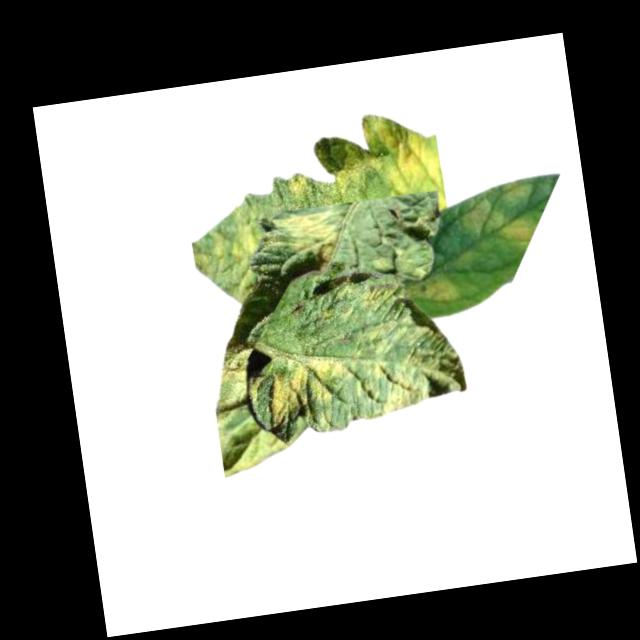Leaf_Mold: (328, 102, 445, 204), (185, 202, 267, 310), (262, 347, 356, 439), (456, 188, 546, 251), (273, 207, 344, 275), (367, 352, 436, 417), (213, 336, 262, 388), (404, 268, 460, 310), (360, 279, 401, 311), (502, 176, 537, 203), (284, 169, 313, 201)
